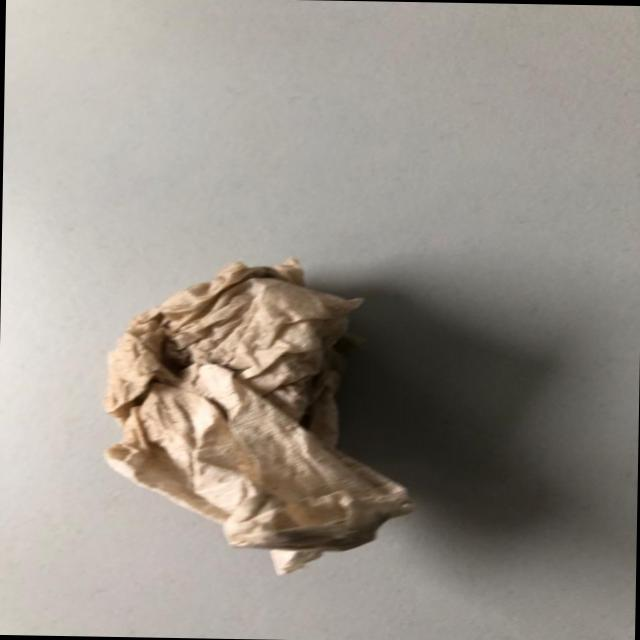organic waste: (95, 254, 414, 578)
